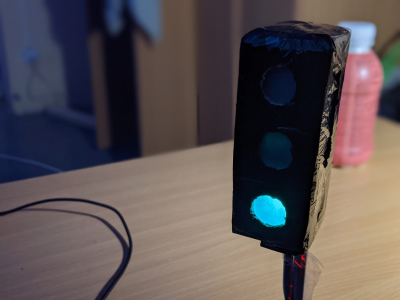trafficlight_green: (231, 42, 328, 235)
